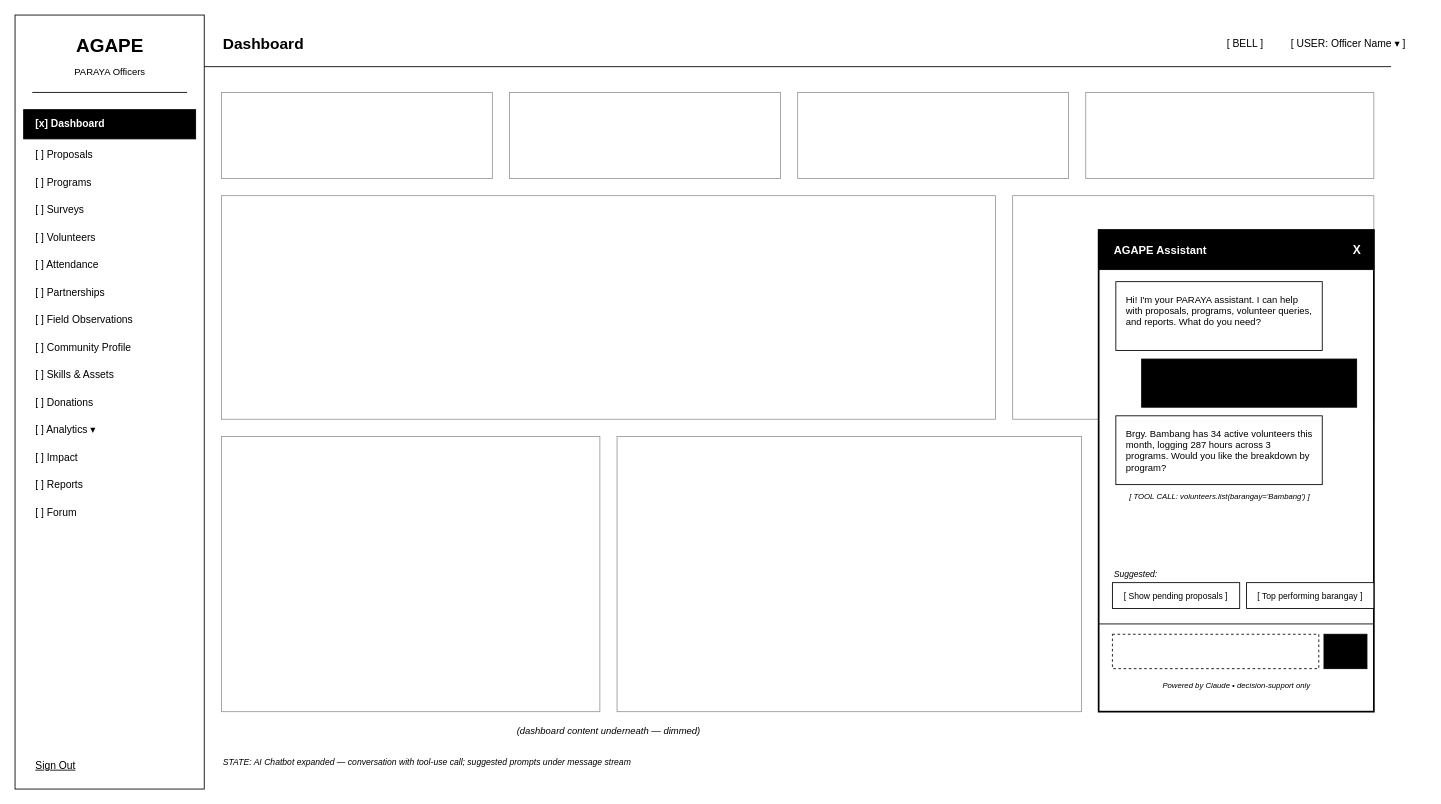
Some shapes in this 1441 by 804 pixel diagram are drawn without their labels. Here are the shapes that lost their labels. From the top down, the centre of each, then its label:
At (x=1249, y=382): "How many active volunteers in Brgy. Bambang this month?".
At (x=1215, y=651): "Type your message…".
At (x=1345, y=651): "[ SEND ]".
